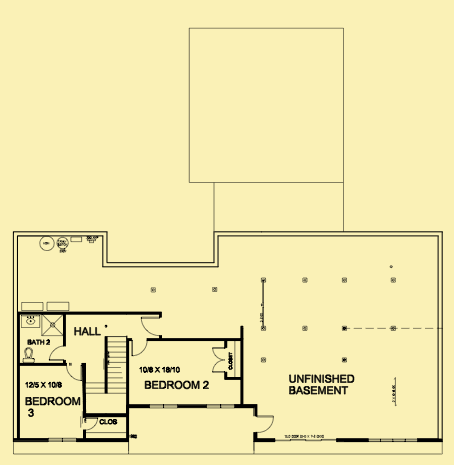door: (136, 316, 164, 339), (209, 346, 227, 375), (250, 415, 275, 433), (62, 363, 82, 382), (131, 339, 150, 358), (47, 344, 66, 362)
large_sink: (21, 345, 37, 363)
small_sink: (20, 315, 40, 330)
stairs: (82, 335, 129, 412)
window: (203, 403, 236, 410), (150, 404, 179, 409), (44, 438, 76, 442)
